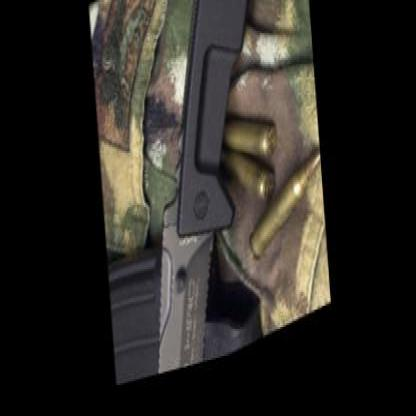knife: (140, 165, 250, 383)
